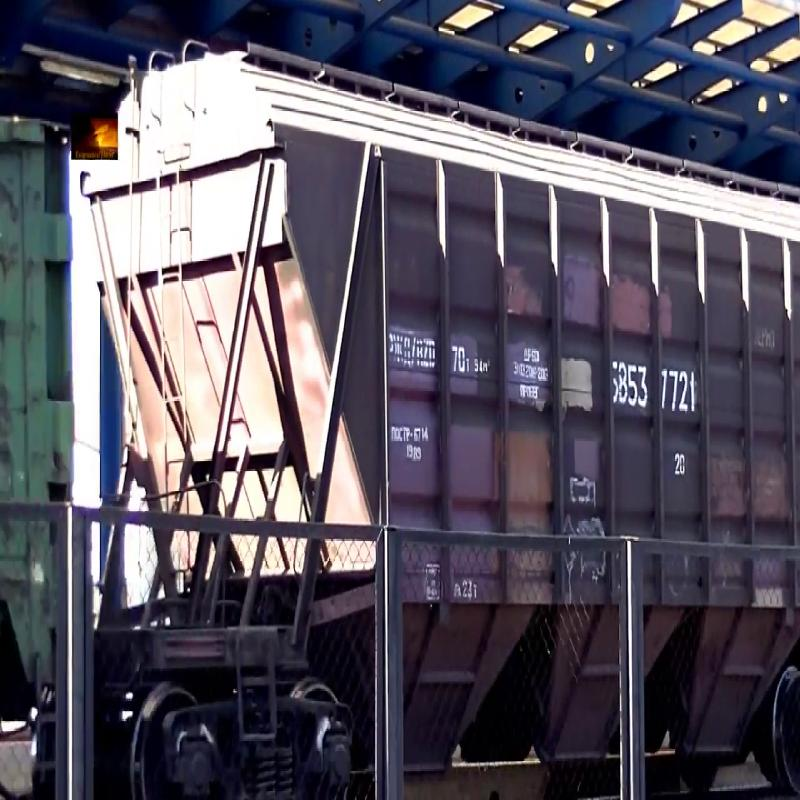train: (101, 6, 800, 754), (2, 13, 80, 758)
